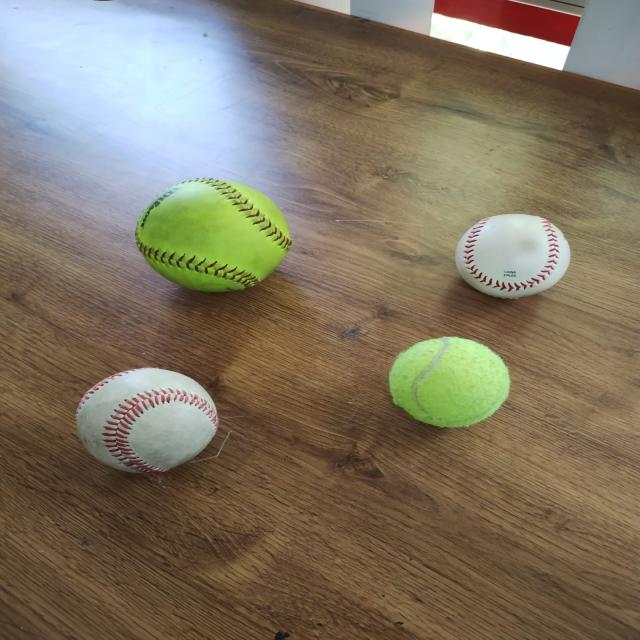beisbol ball: (71, 365, 235, 475), (449, 208, 574, 310)
softball ball: (133, 178, 293, 292)
tenis ball: (386, 335, 508, 427)
